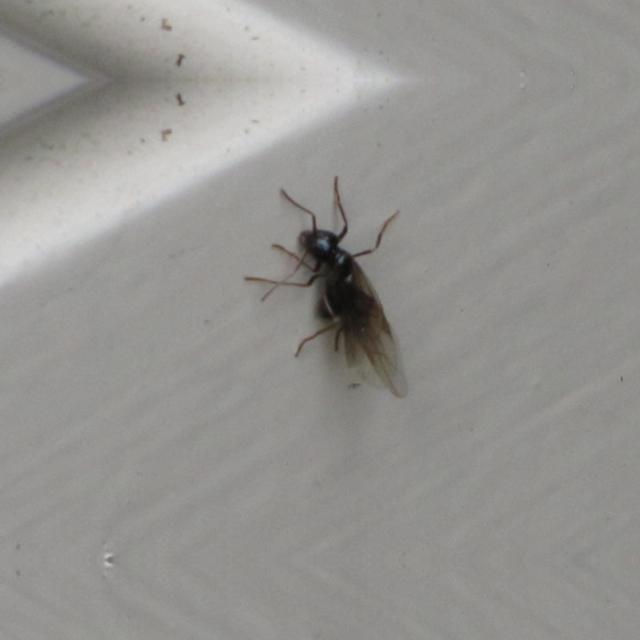Lasius: (276, 196, 422, 380)
